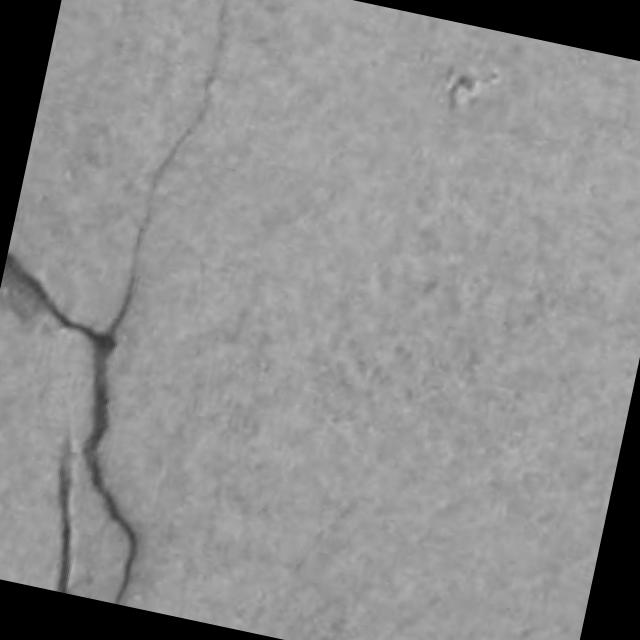crack: (0, 0, 228, 604), (82, 0, 228, 604), (55, 442, 72, 593)
